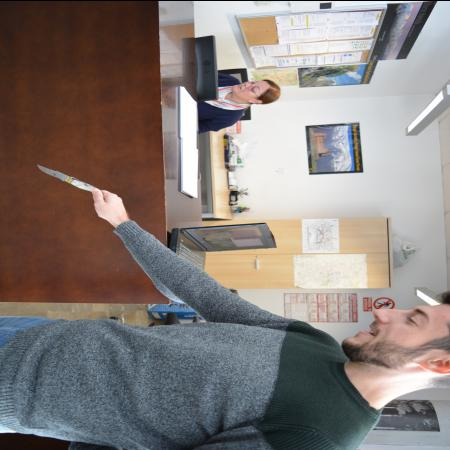long weapon: (32, 160, 110, 196)
